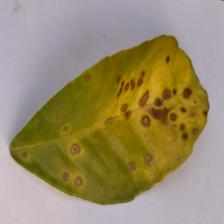canker: (100, 73, 214, 174)
